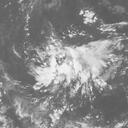cyclone: (33, 42, 98, 95)
